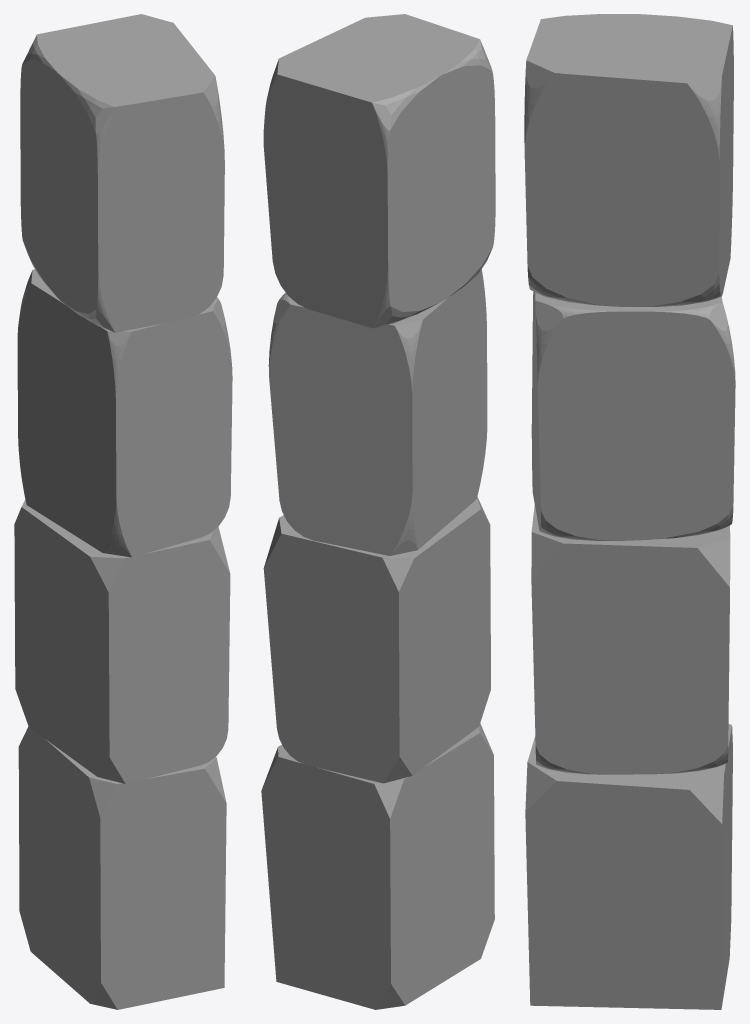
File: pillar.obj
The picture shows the model from 3 angles, left to right: view 1: azimuth 30°, elevation 25°; view 2: azimuth 150°, elevation 25°; view 3: azimuth 270°, elevation 25°; orthographic projection. The views are drawn at different scales.
Visible parts, largest first — view 1: Cube.003_Cube.002; view 2: Cube.003_Cube.002; view 3: Cube.003_Cube.002.
Boxes of the visible parts, <box> form: Cube.003_Cube.002: <box>14,14,232,1009</box>; Cube.003_Cube.002: <box>261,14,495,1009</box>; Cube.003_Cube.002: <box>524,14,735,1009</box>.
Size of the model in its own units: 0.4797 by 2.83 by 0.5795.
1 material, 1 textured.
